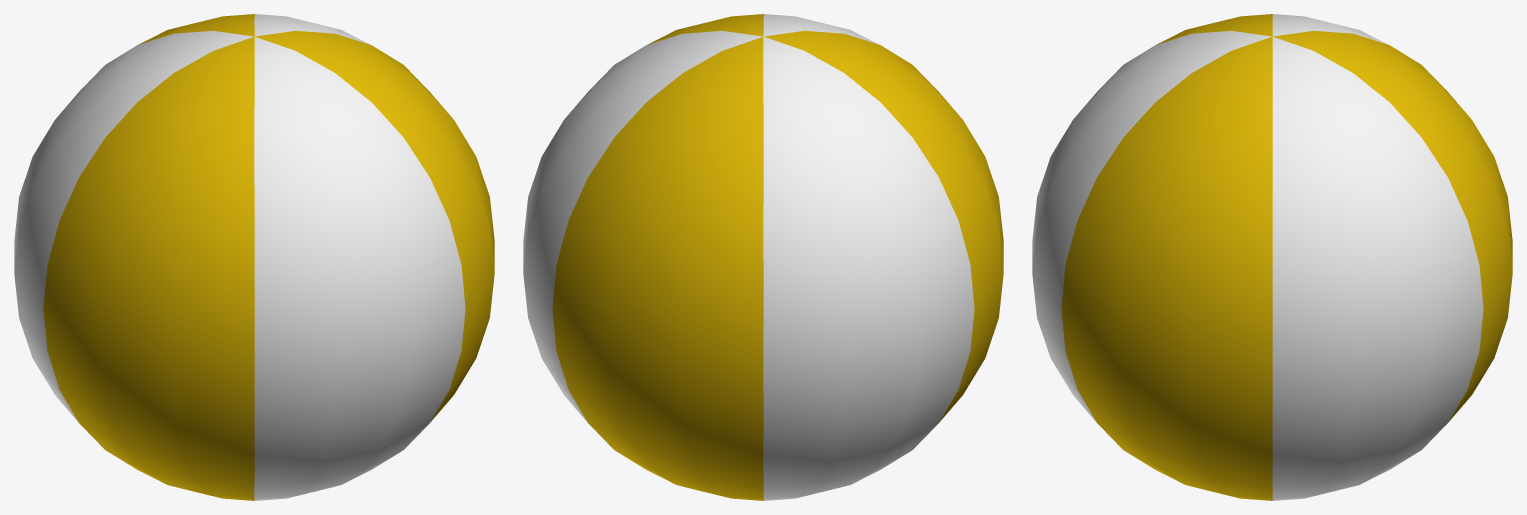
Rendered from Volleyball_Yellow.fbx.
3 views of the same model, side by side, from view 1: azimuth 30°, elevation 25°; view 2: azimuth 150°, elevation 25°; view 3: azimuth 270°, elevation 25° (orthographic).
Visible parts, largest first — view 1: Volleyball_Yellow; view 2: Volleyball_Yellow; view 3: Volleyball_Yellow.
Boxes of the visible parts, <box> form: Volleyball_Yellow: <box>14,14,494,500</box>; Volleyball_Yellow: <box>523,14,1003,500</box>; Volleyball_Yellow: <box>1032,14,1512,500</box>.
Bounding box in the file's own units: 96.75 × 96.75 × 95.28.
